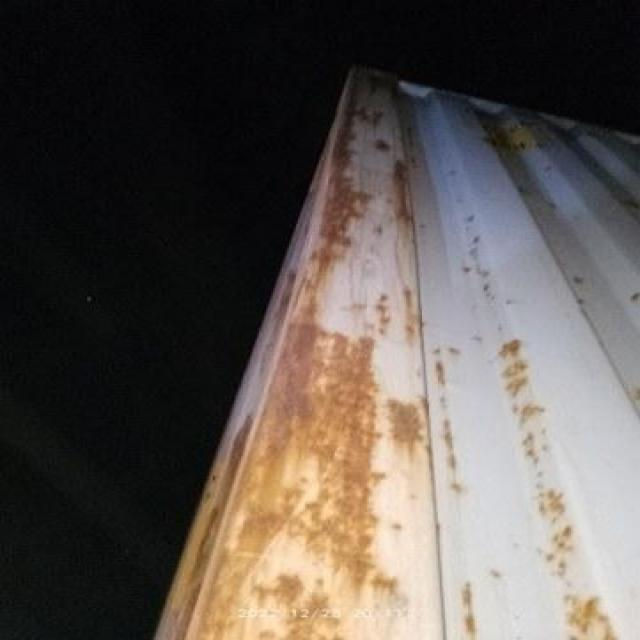rust: (253, 332, 364, 580), (185, 492, 244, 616), (323, 191, 361, 243)
